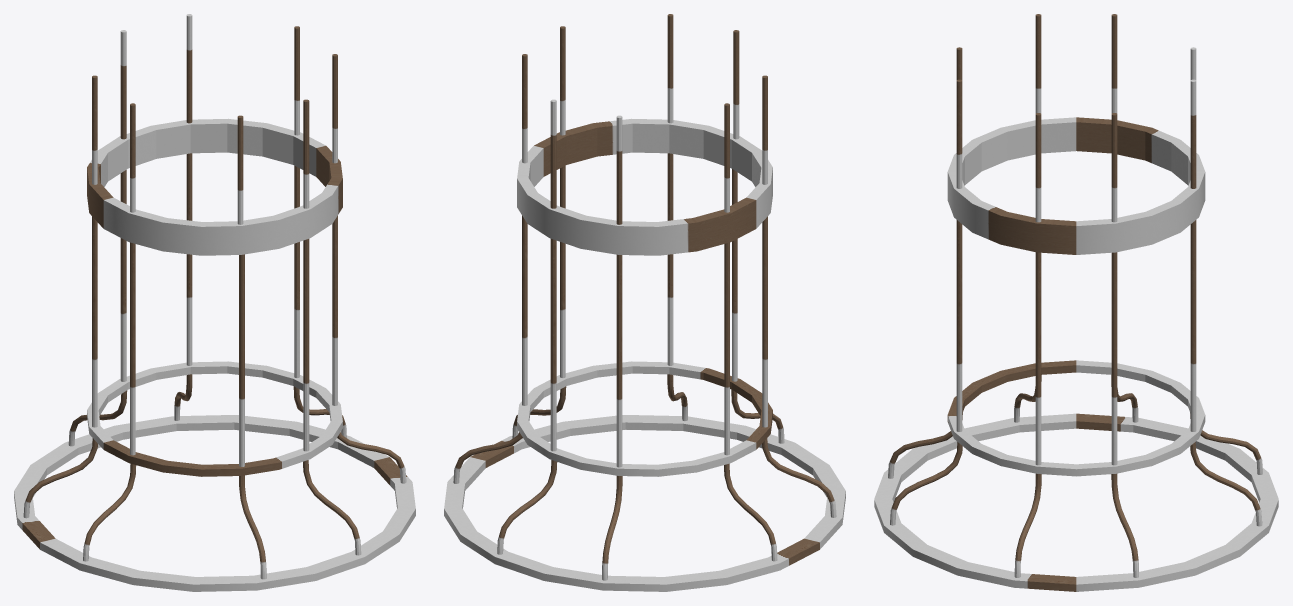
File: Decor_PendantLightA.fbx
3 views of the same model, side by side, from view 1: azimuth 30°, elevation 25°; view 2: azimuth 150°, elevation 25°; view 3: azimuth 270°, elevation 25° (orthographic).
Visible parts, largest first — view 1: Decor_LightingFixtureShort, Decor_LightingFixtureTall1, Decor_LightingFixtureTall; view 2: Decor_LightingFixtureShort, Decor_LightingFixtureTall1, Decor_LightingFixtureTall; view 3: Decor_LightingFixtureShort, Decor_LightingFixtureTall1, Decor_LightingFixtureTall.
Part boxes in pixels (left/top/right/bottom): Decor_LightingFixtureShort: left=14, top=153, right=415, bottom=591; Decor_LightingFixtureTall1: left=87, top=118, right=342, bottom=255; Decor_LightingFixtureTall: left=92, top=14, right=337, bottom=224; Decor_LightingFixtureShort: left=444, top=153, right=845, bottom=591; Decor_LightingFixtureTall1: left=517, top=118, right=772, bottom=255; Decor_LightingFixtureTall: left=522, top=14, right=767, bottom=224; Decor_LightingFixtureShort: left=874, top=220, right=1278, bottom=591; Decor_LightingFixtureTall1: left=947, top=117, right=1205, bottom=254; Decor_LightingFixtureTall: left=956, top=14, right=1196, bottom=222.
Bounding box in the file's own units: 314 × 378 × 314.
